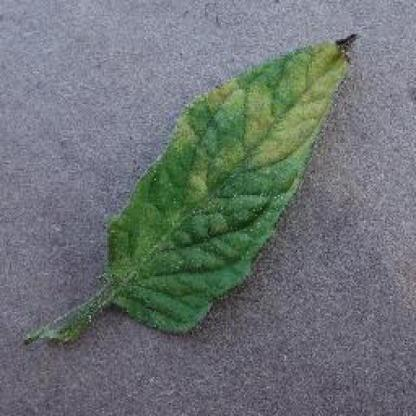Tomato_Leaf_Mold: (109, 33, 358, 328)
